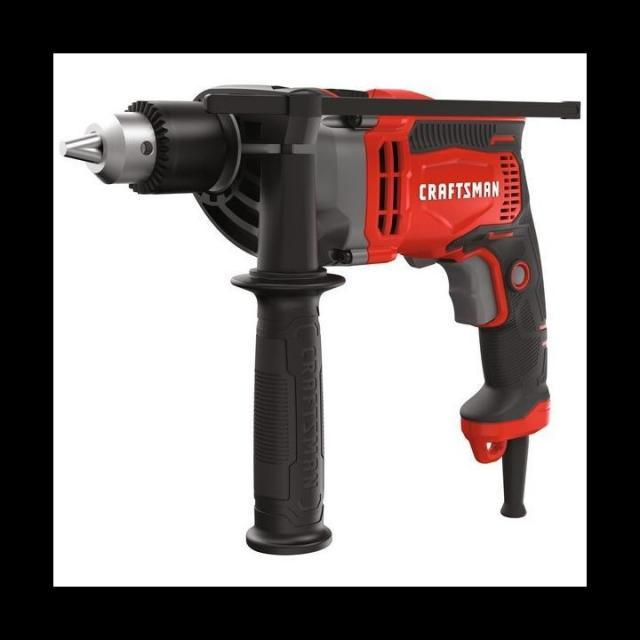drill: (59, 85, 583, 556)
